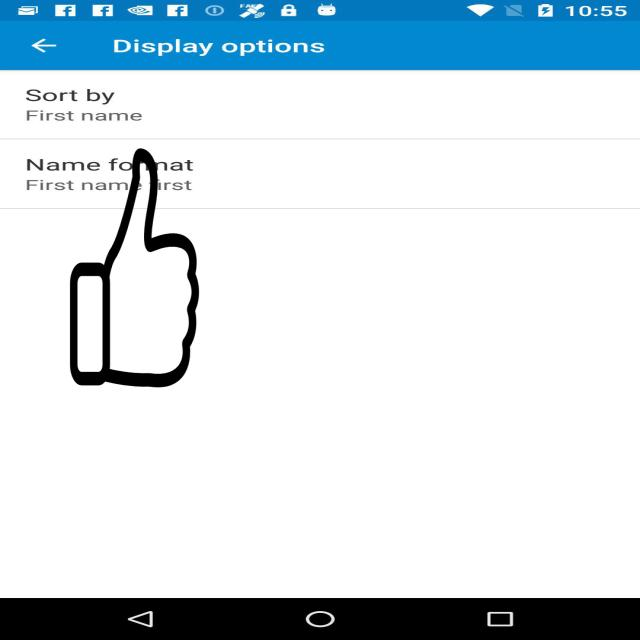privacy zuckering: (68, 148, 201, 388)
